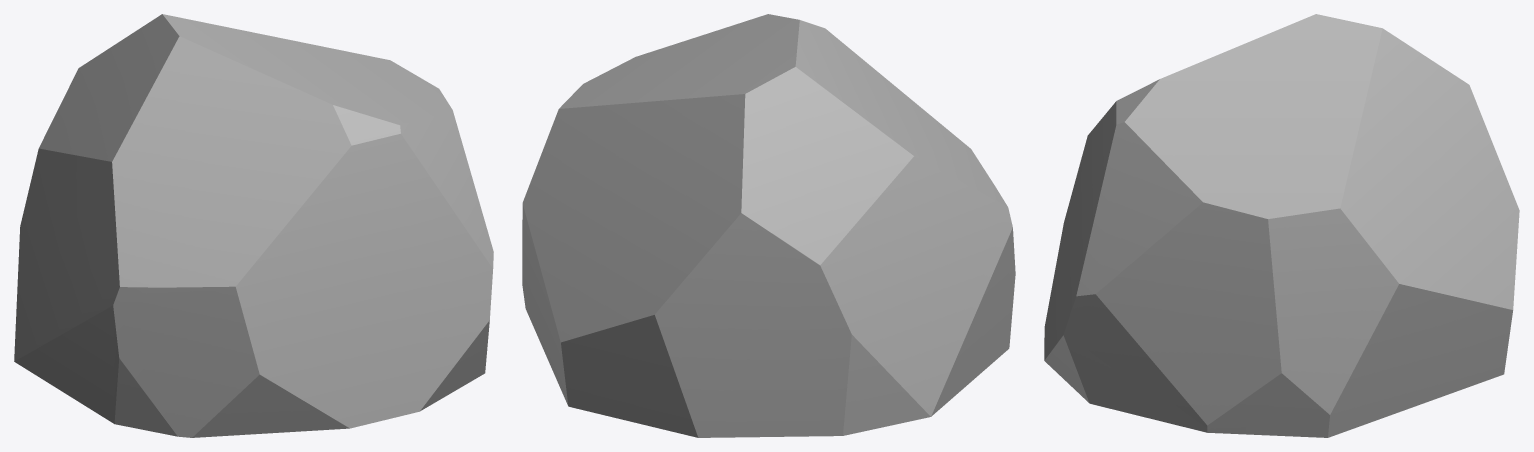
The model's file is stone small 3.fbx.
The picture shows the model from 3 angles, left to right: view 1: azimuth 30°, elevation 25°; view 2: azimuth 150°, elevation 25°; view 3: azimuth 270°, elevation 25°; orthographic projection.
Visible parts, largest first — view 1: stone small 3; view 2: stone small 3; view 3: stone small 3.
Boxes of the visible parts, x1,y1,x2,y2 form: stone small 3: [14, 14, 493, 437]; stone small 3: [522, 14, 1015, 437]; stone small 3: [1044, 14, 1519, 437].
Bounding box in the file's own units: 134 × 92.84 × 135.
